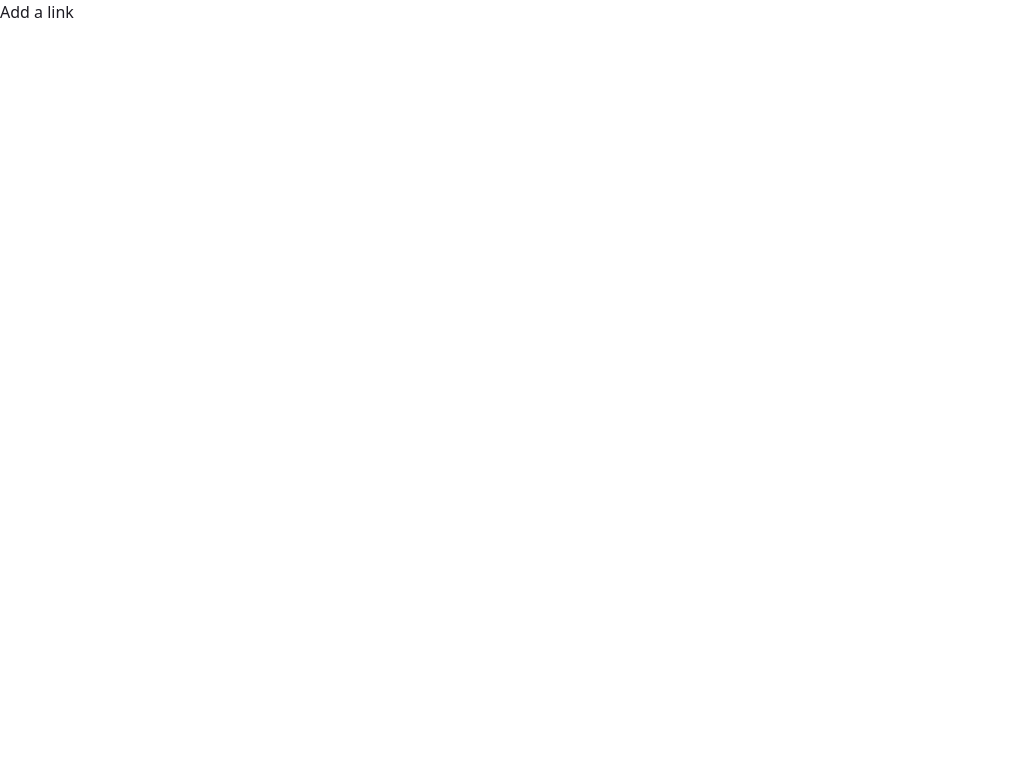
AddLinkDialog › says so when the link is already in Sources
Click the button "Add a link": (37, 12) [0,0,74,24]
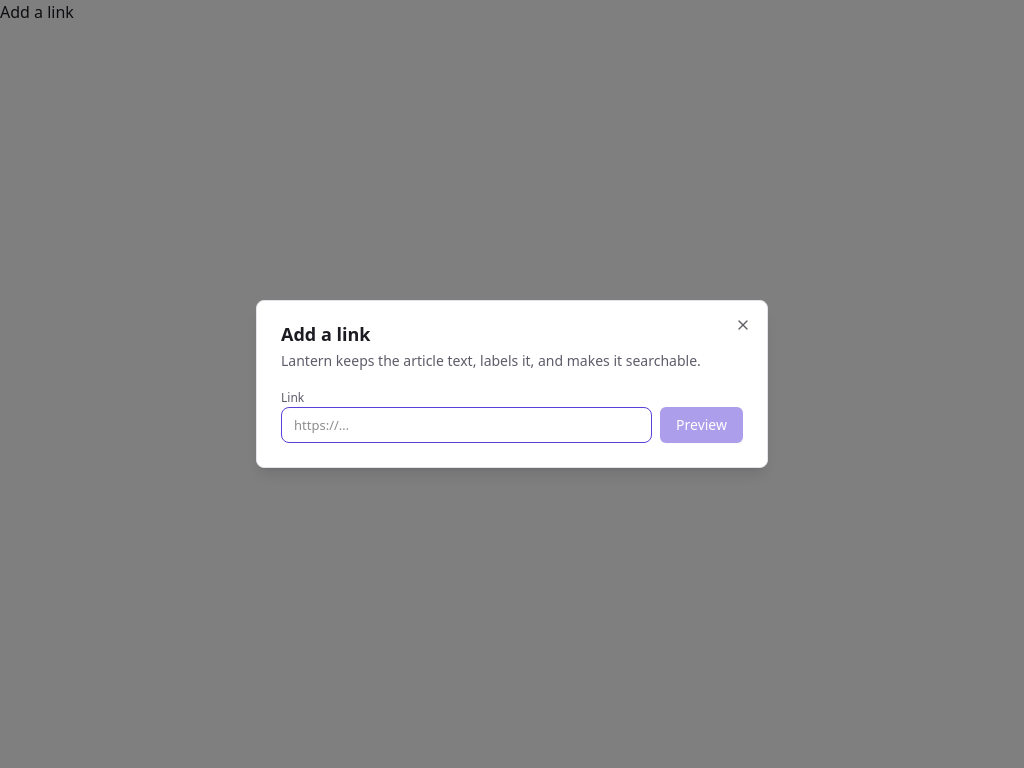
In the field with placeholder "https://…": (467, 425) [281,407,652,443], type "https://ised-isde.canada.ca/aida"
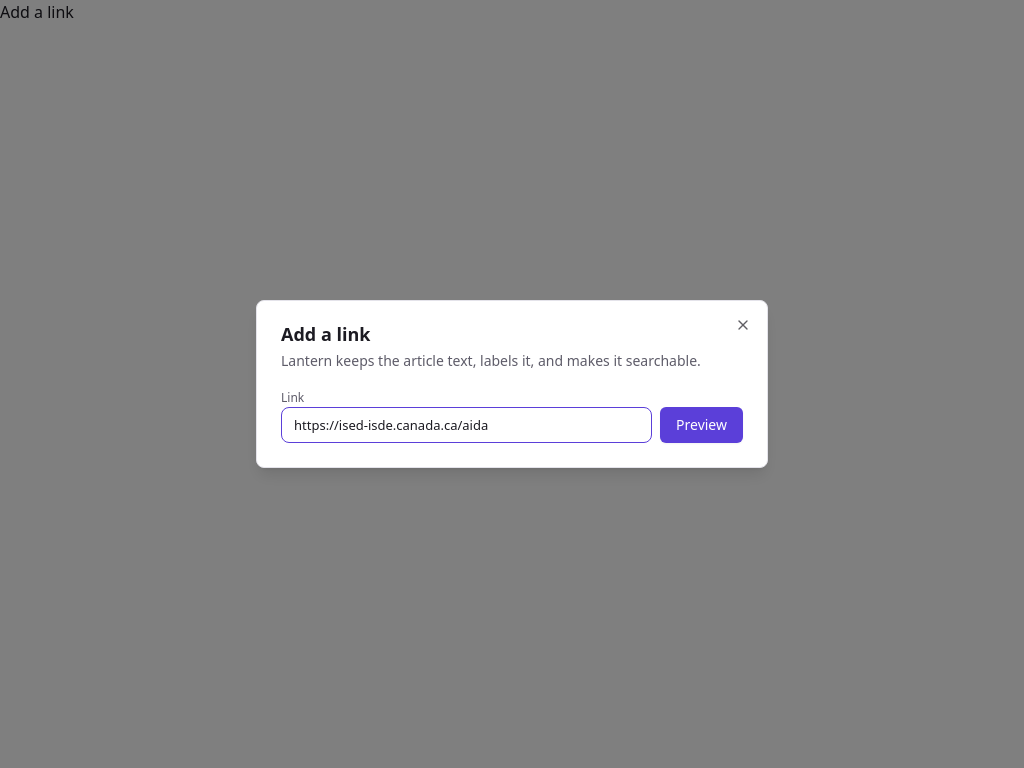
Click the button "Preview": (702, 425) [660,407,743,443]
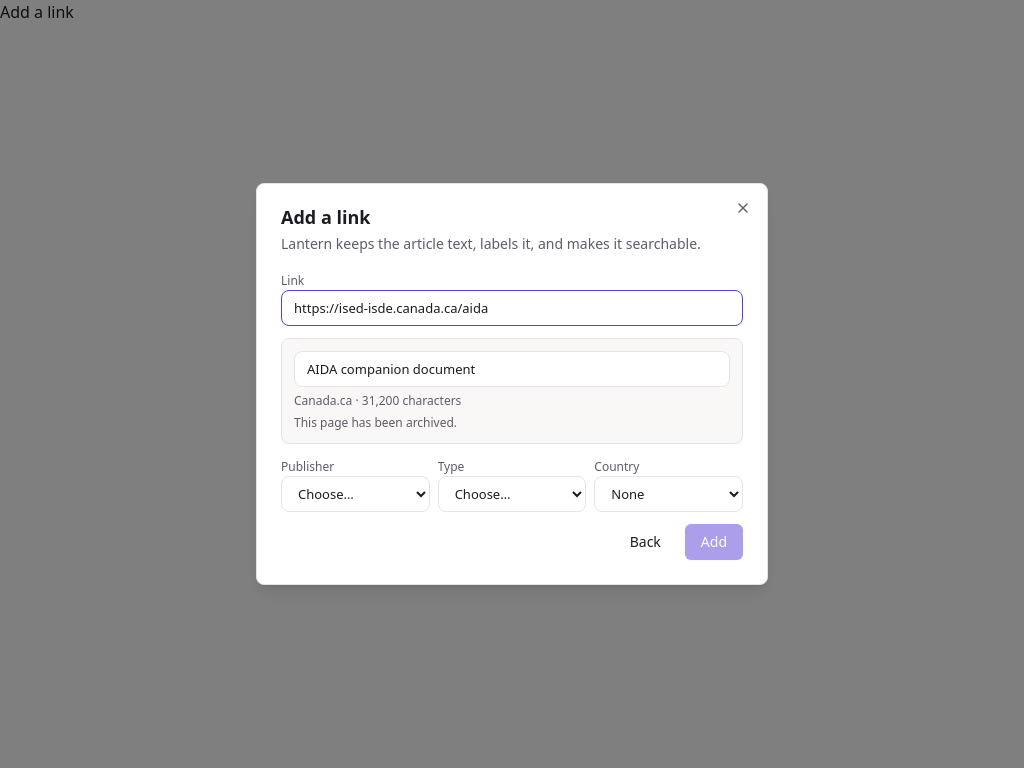
Expected: the field showing "AIDA companion document" is shown, [294,351,730,387]
Select "Government" in the dropdown labelled "Publisher": (355, 494) [281,476,430,512]
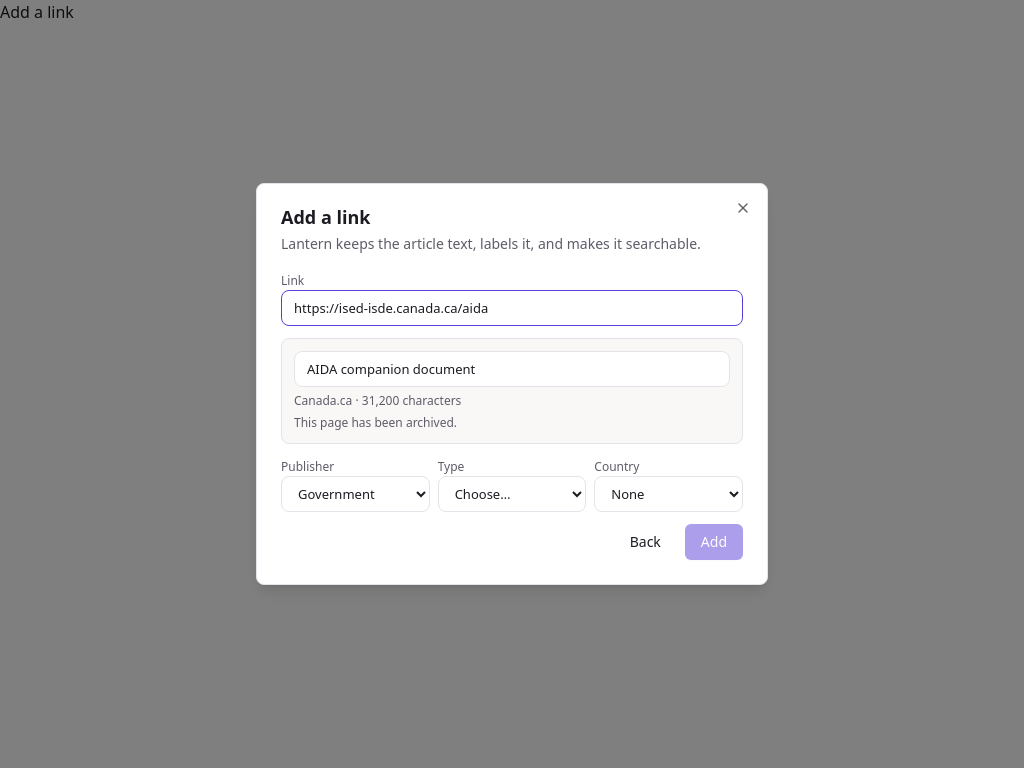
Select "Guidance" in the dropdown labelled "Type": (512, 494) [438,476,586,512]
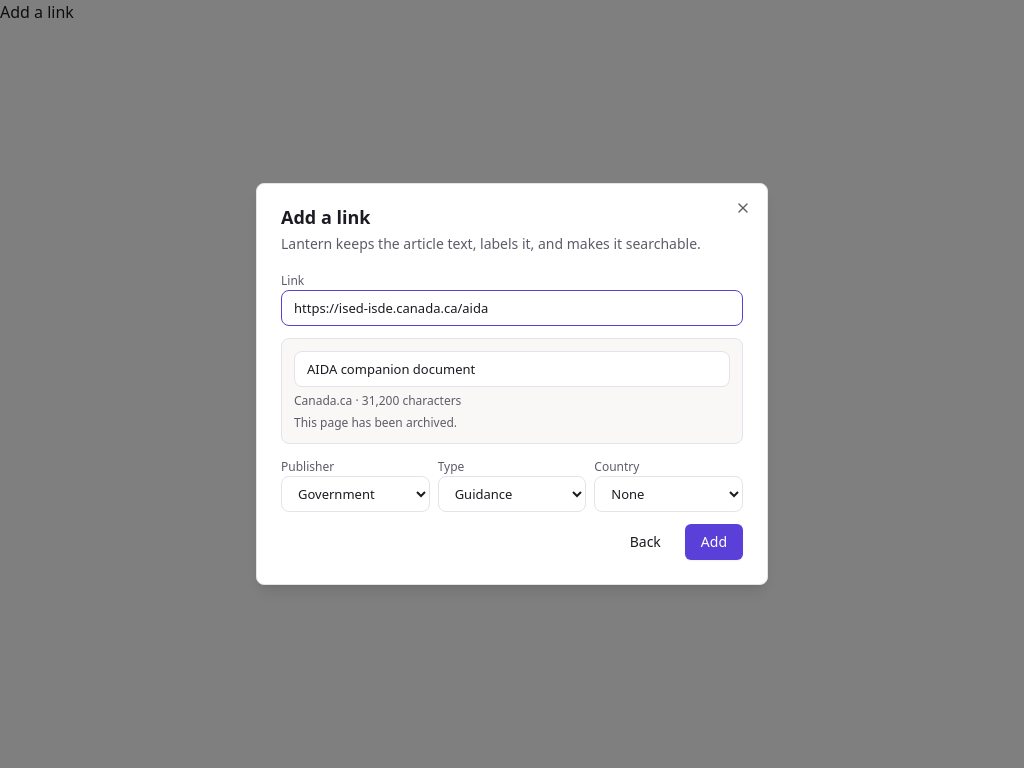
Click the button "Add": (714, 542) [685,524,743,560]
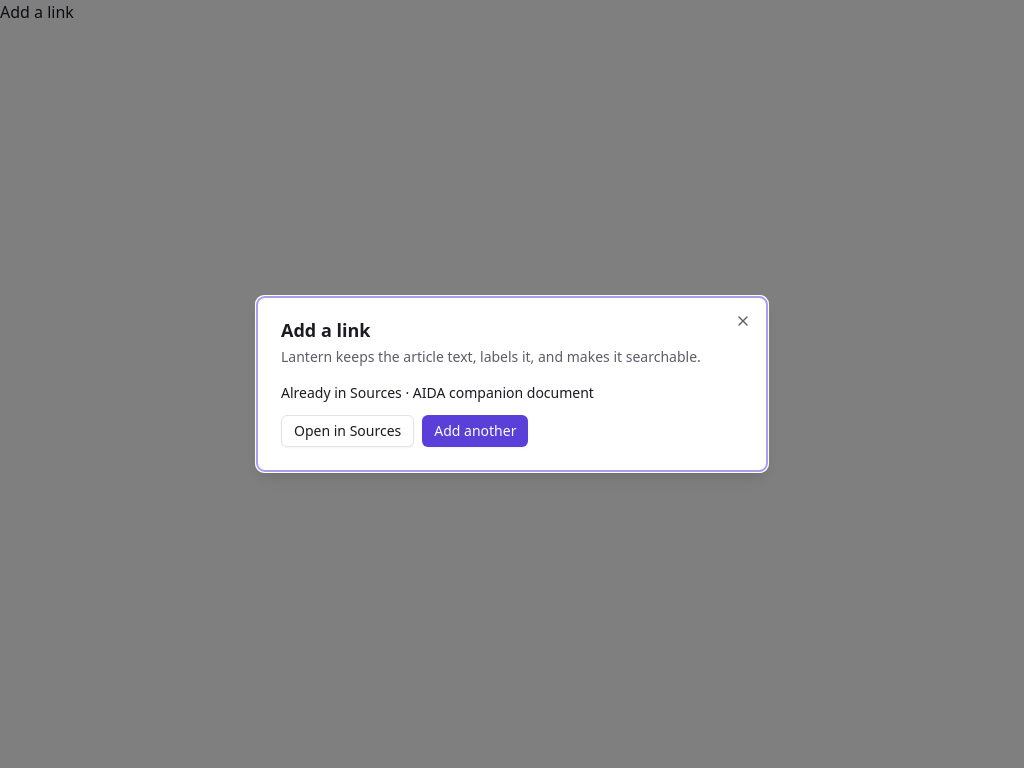
Expected: the message shows "Already in Sources", [281,383,402,402]
